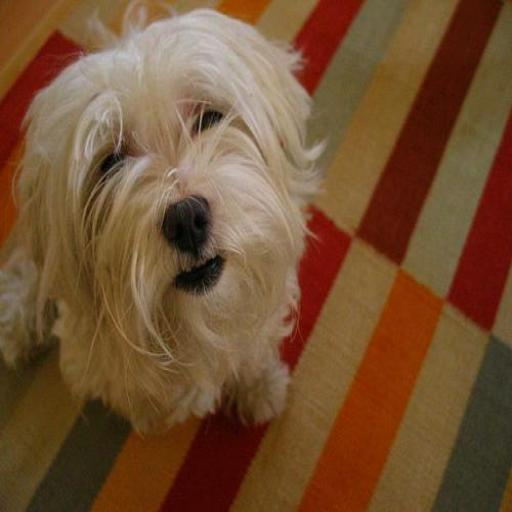dog_face: (29, 27, 296, 369)
